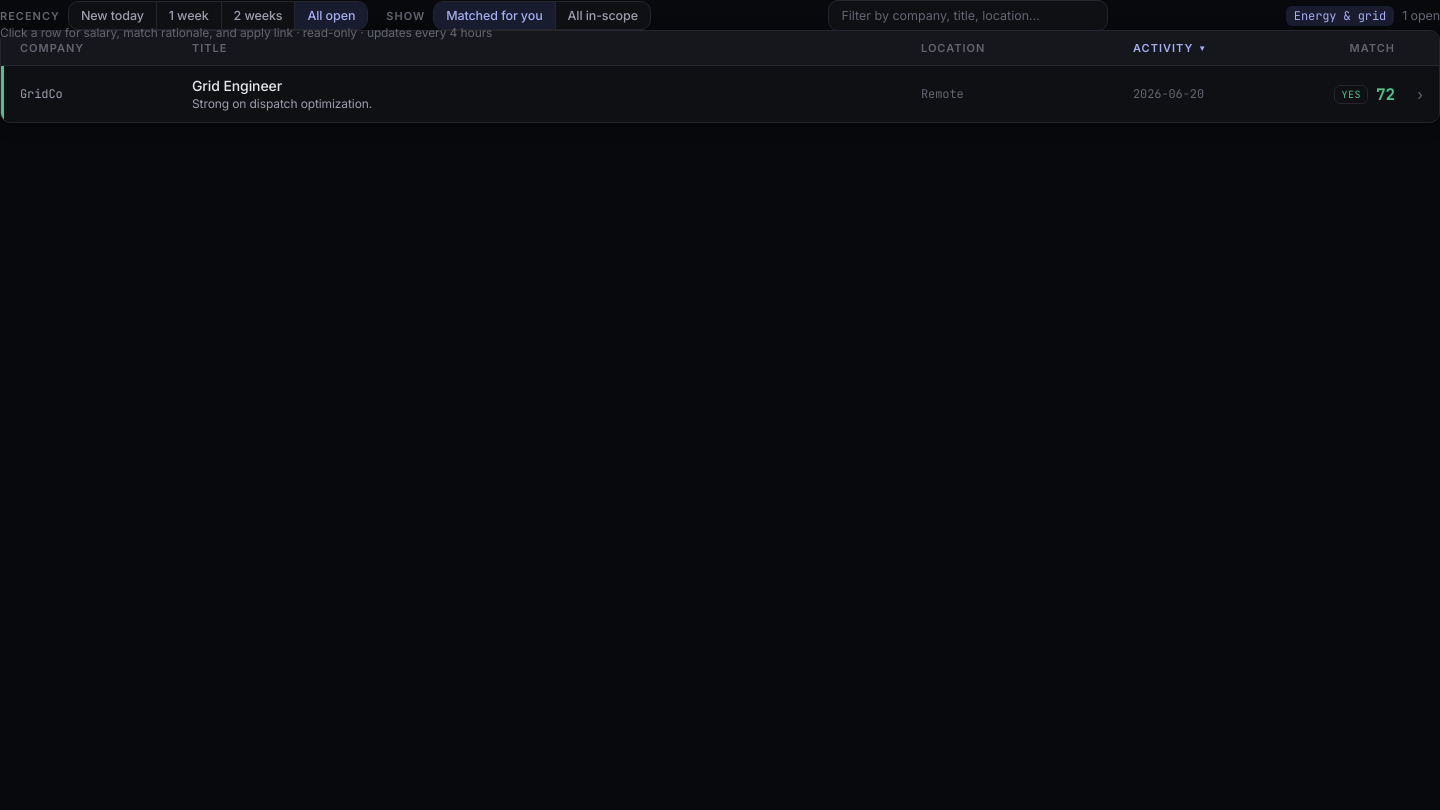
it: Dashboard › row click opens the side panel; Esc closes it
Expected: the link "Grid Engineer" is shown, [192,77,282,94]
Click the button "GridCo": x=41, y=94 [1,66,1439,122]
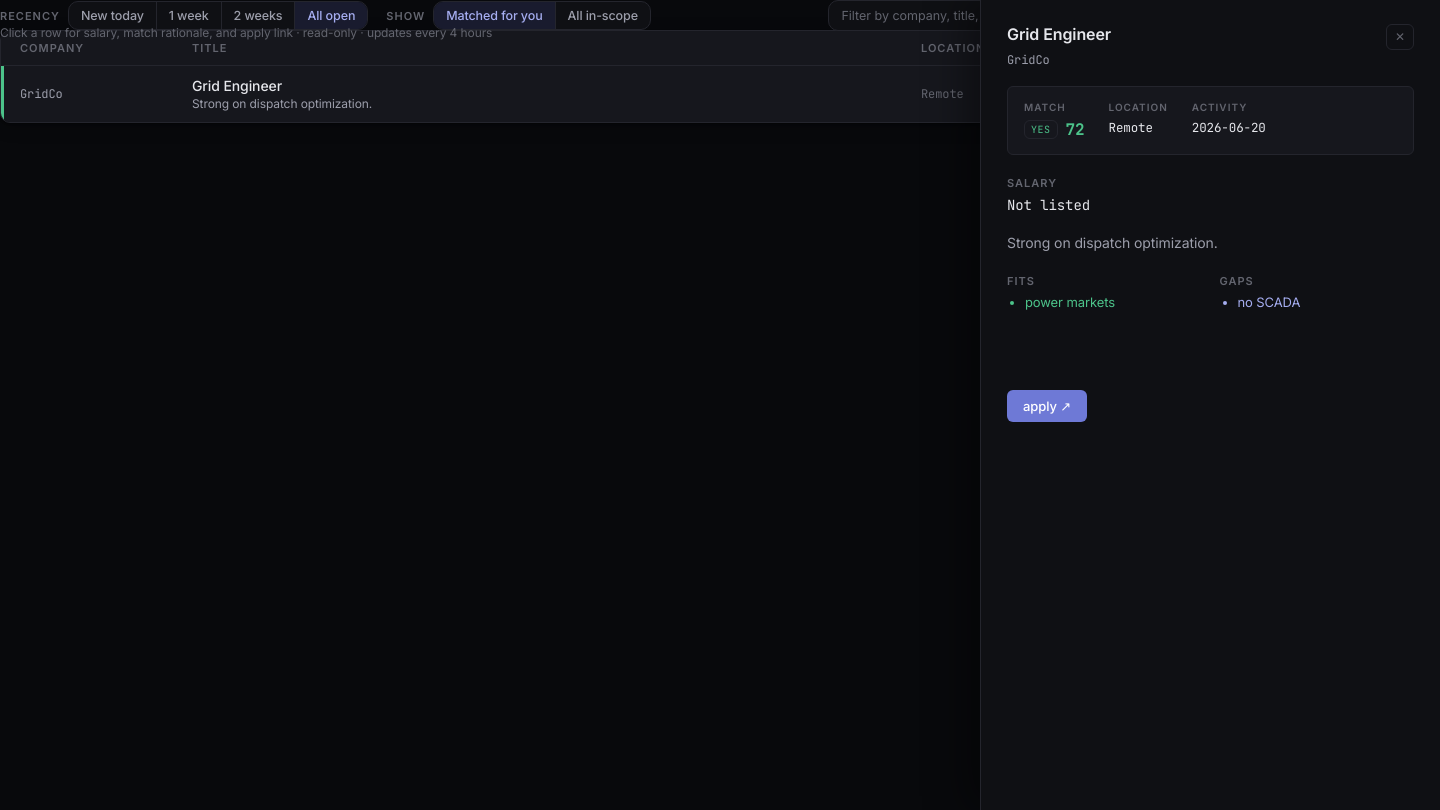
Now the dialog "Grid Engineer" is shown, box [980,0,1439,809]
Now the list item "power markets" is shown, box [1025,294,1115,310]
Press Escape
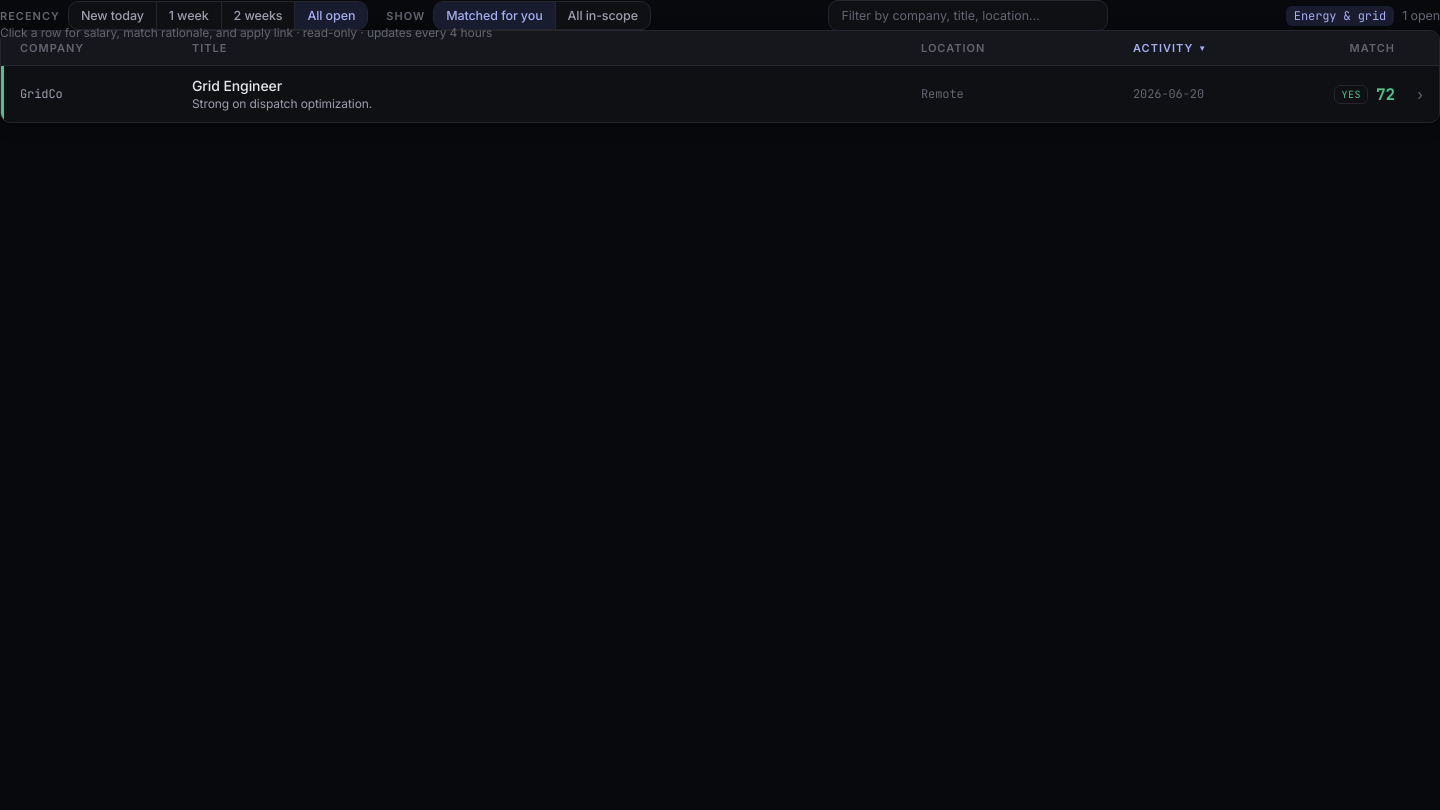
Now the dialog is gone
